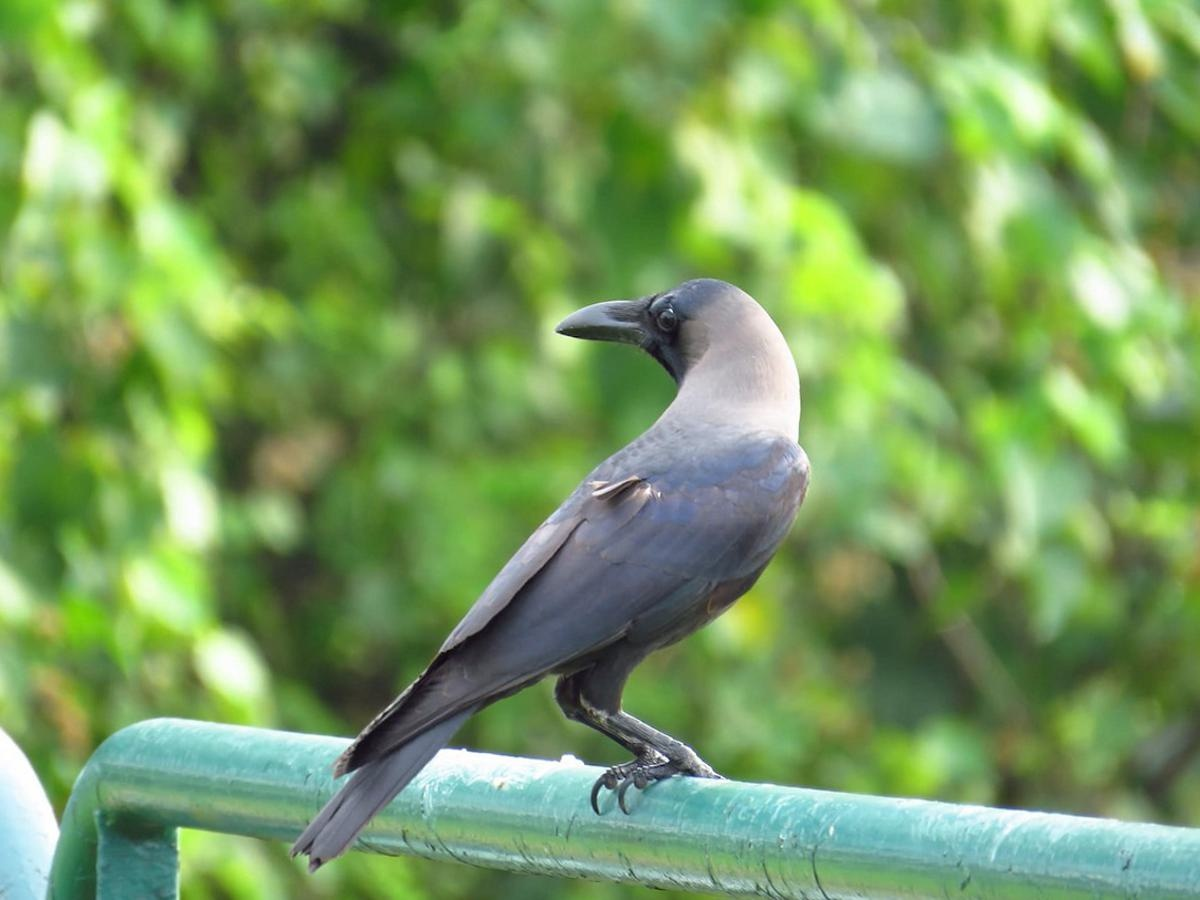crow: (311, 263, 811, 866)
